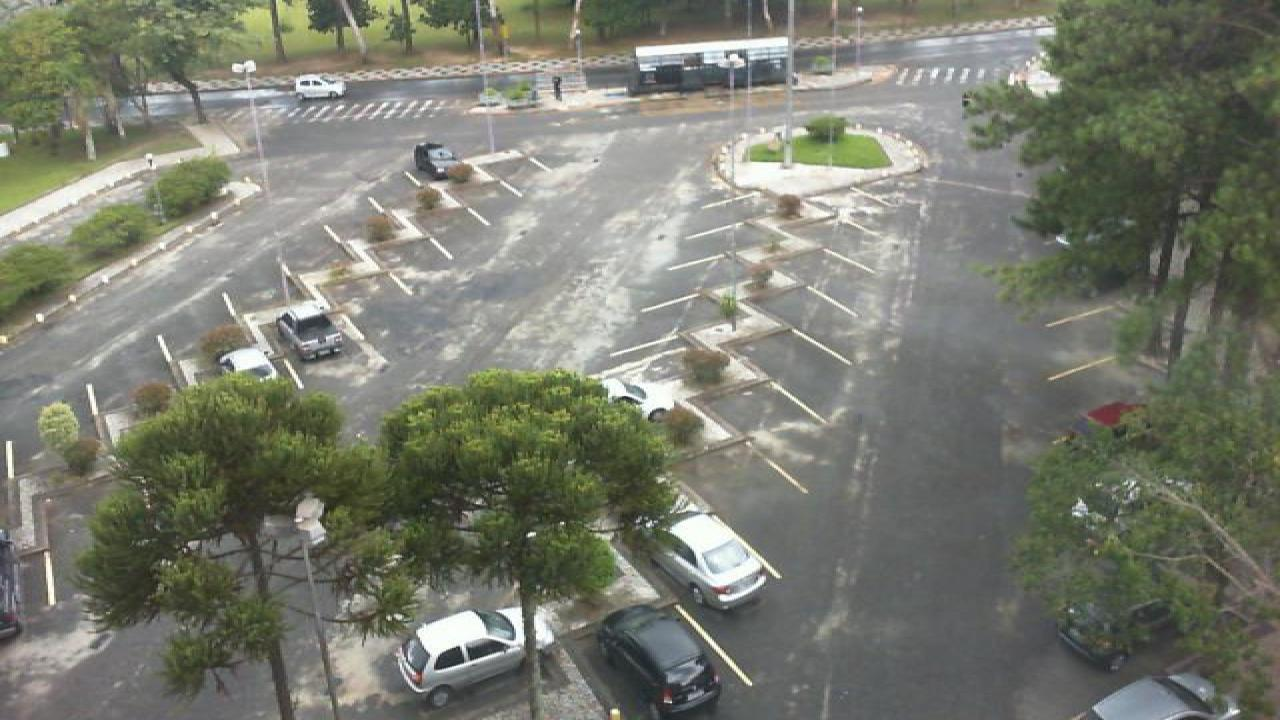Car: (596, 603, 728, 720), (392, 608, 530, 706), (644, 510, 770, 610), (1052, 596, 1176, 674), (1090, 670, 1240, 720), (276, 302, 346, 364), (600, 377, 676, 422), (218, 345, 286, 386), (1082, 399, 1146, 433), (412, 141, 462, 181)
